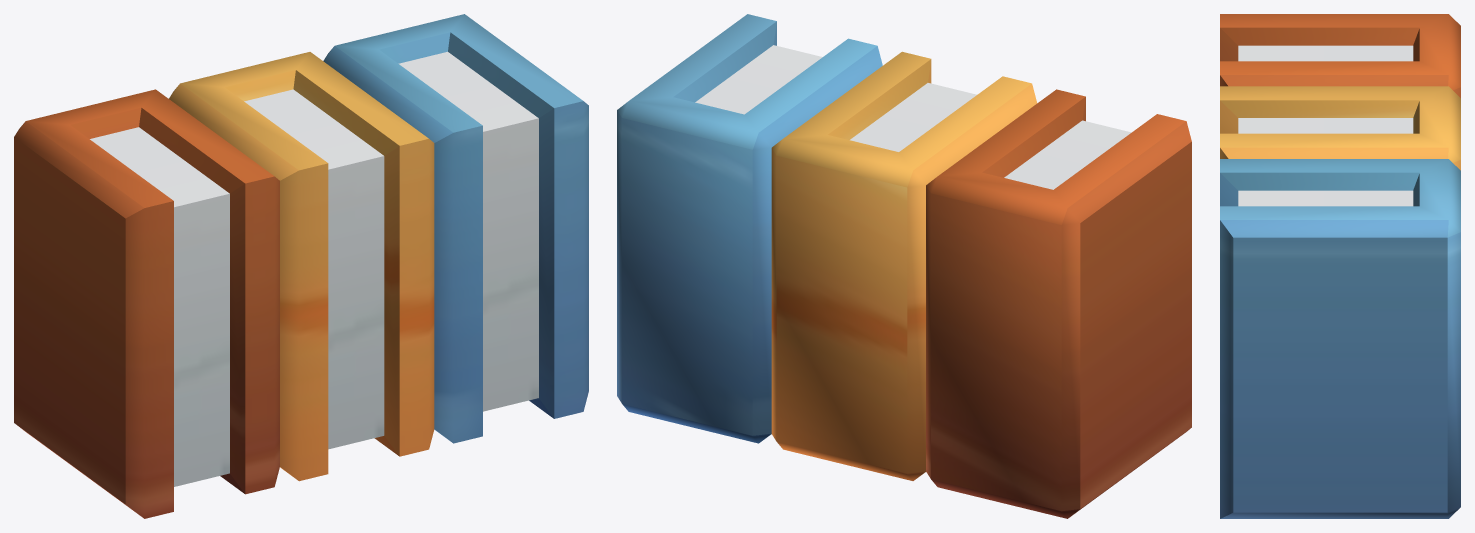
Rendered from fur_book_set.glb.
The picture shows the model from 3 angles, left to right: view 1: azimuth 30°, elevation 25°; view 2: azimuth 150°, elevation 25°; view 3: azimuth 270°, elevation 25°; orthographic projection. The views are drawn at different scales.
Visible parts, largest first — view 1: book_set; view 2: book_set; view 3: book_set.
Part boxes in pixels (left/top/right/bottom): book_set: left=14, top=14, right=588, bottom=518; book_set: left=617, top=14, right=1191, bottom=518; book_set: left=1220, top=14, right=1460, bottom=518.
Bounding box in the file's own units: 0.78 × 0.5 × 0.365.
1 material, 1 textured.
